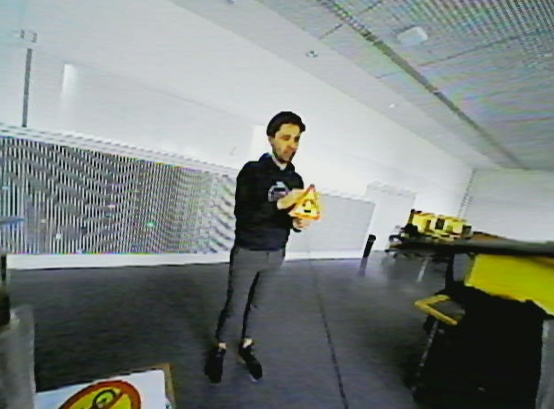roundabout_warning: (287, 178, 325, 223)
